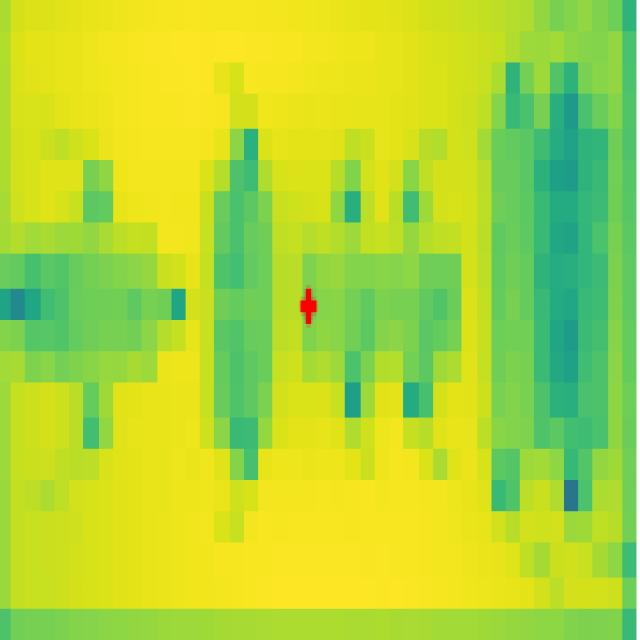Concrete: (303, 252, 463, 385)
Glass: (200, 159, 274, 445)
Metal: (489, 124, 609, 448)
Wood: (24, 220, 159, 384)
